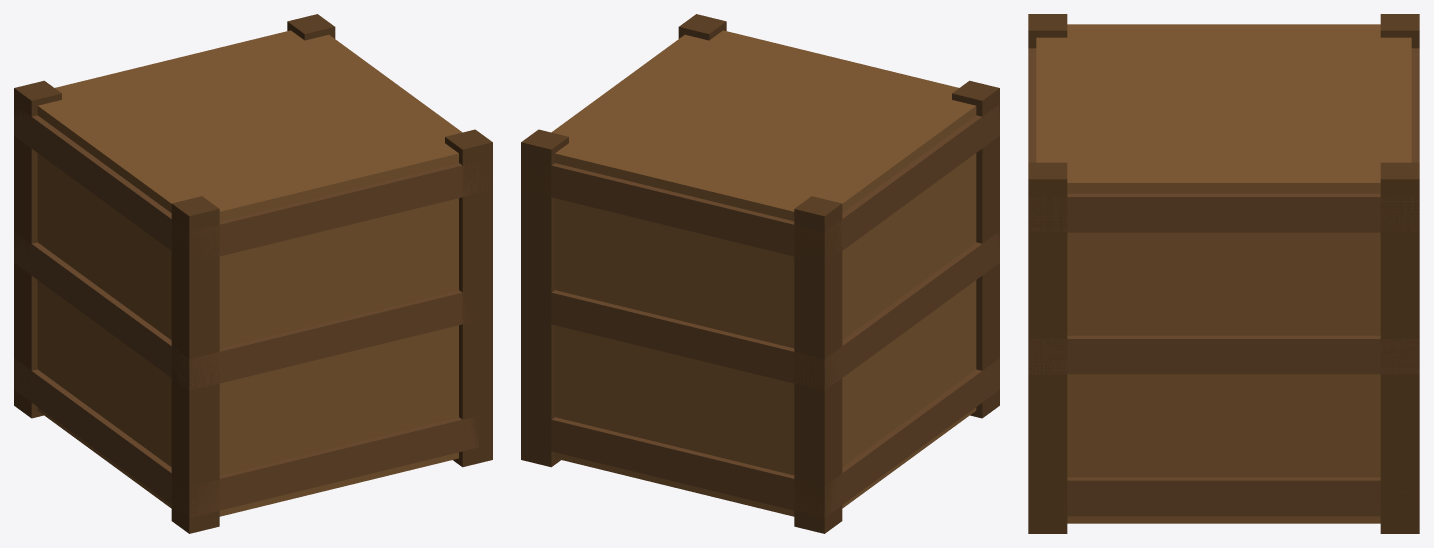
File: mobile-low.glb
3 renders of one model, left to right at view 1: azimuth 30°, elevation 25°; view 2: azimuth 150°, elevation 25°; view 3: azimuth 270°, elevation 25°, orthographic. The views are drawn at different scales.
Visible parts, largest first — view 1: crate; view 2: crate; view 3: crate.
Part boxes in pixels (x1,y1,x2,y2): crate: (14, 14, 492, 533); crate: (521, 14, 999, 533); crate: (1028, 14, 1419, 533).
Bounding box in the file's own units: 1 × 1 × 1.
